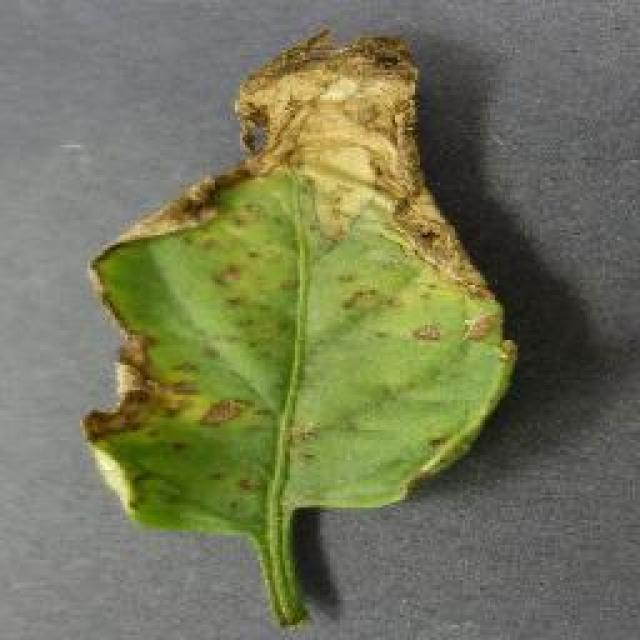Tomato___Bacterial_spot: (72, 33, 527, 634)
